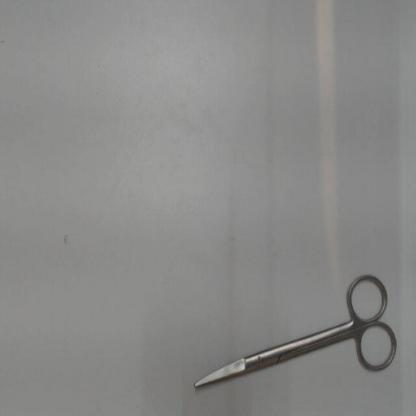Curved Mayo Scissors: (188, 267, 406, 397)
